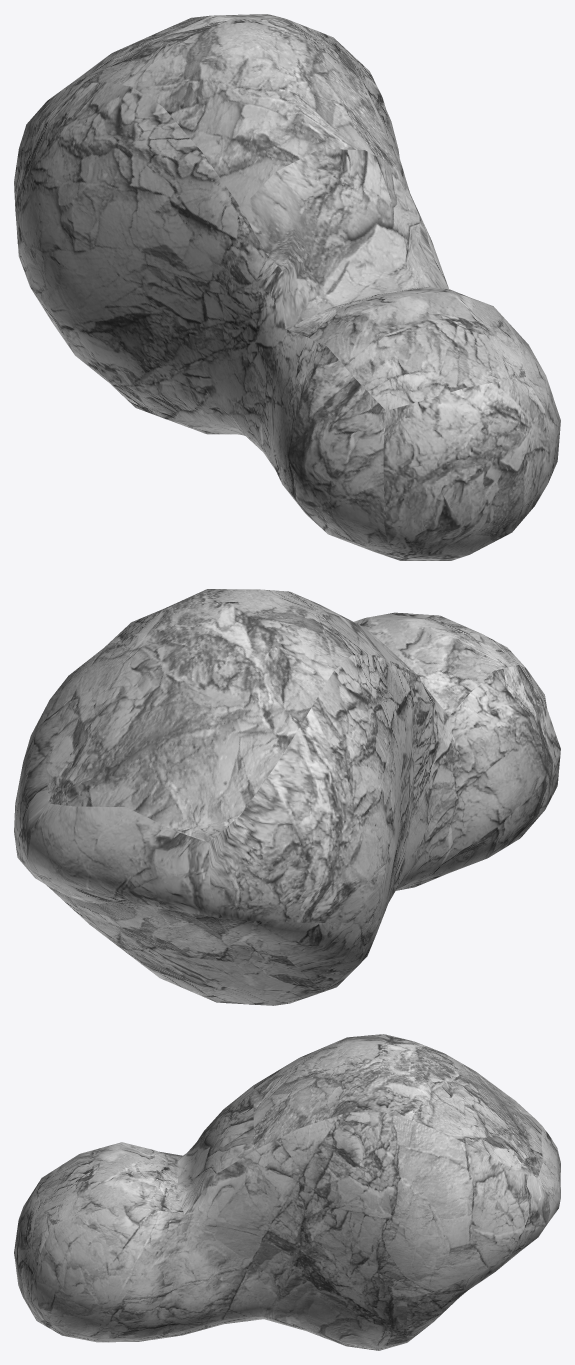
Rendered from meteoro.obj.
3 views of the same model, one above another, from view 1: azimuth 30°, elevation 25°; view 2: azimuth 150°, elevation 25°; view 3: azimuth 270°, elevation 25° (orthographic). The views are drawn at different scales.
Visible parts, largest first — view 1: Box001; view 2: Box001; view 3: Box001.
Boxes of the visible parts, <box> form: Box001: <box>14,14,560,560</box>; Box001: <box>14,589,560,1005</box>; Box001: <box>14,1034,560,1350</box>.
Size of the model in its own units: 59.17 by 65.59 by 110.
